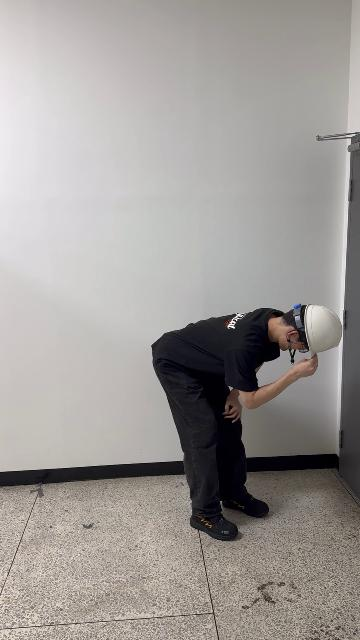helmet_worn: (302, 303, 343, 354)
shoe_worn: (191, 512, 239, 540), (220, 493, 267, 518)
vest_not_worn: (148, 309, 281, 393)
